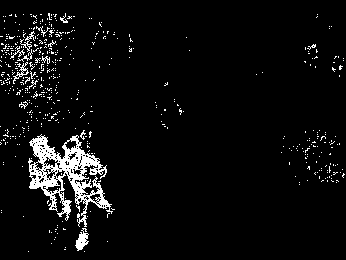person: (65, 130, 111, 255), (24, 132, 65, 240)
